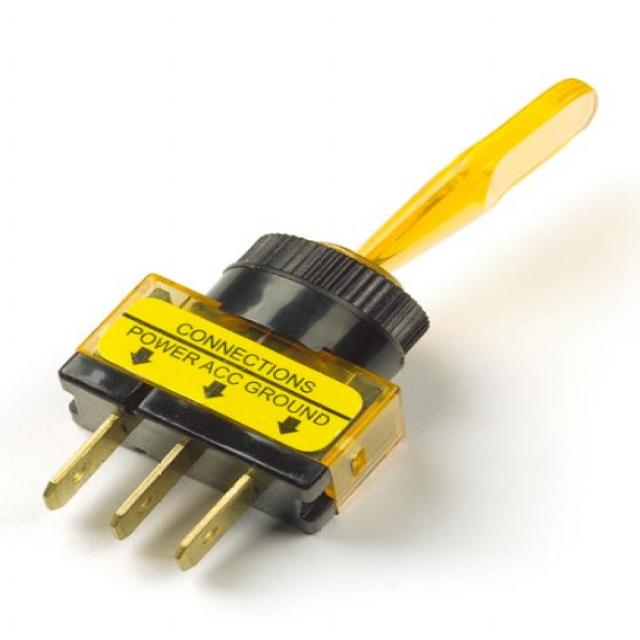toggle switch: (212, 80, 602, 383)
